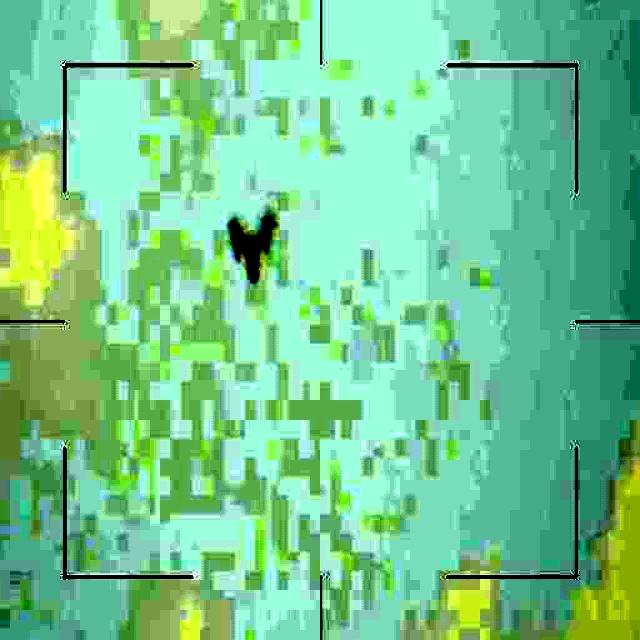bird: (229, 201, 275, 286)
